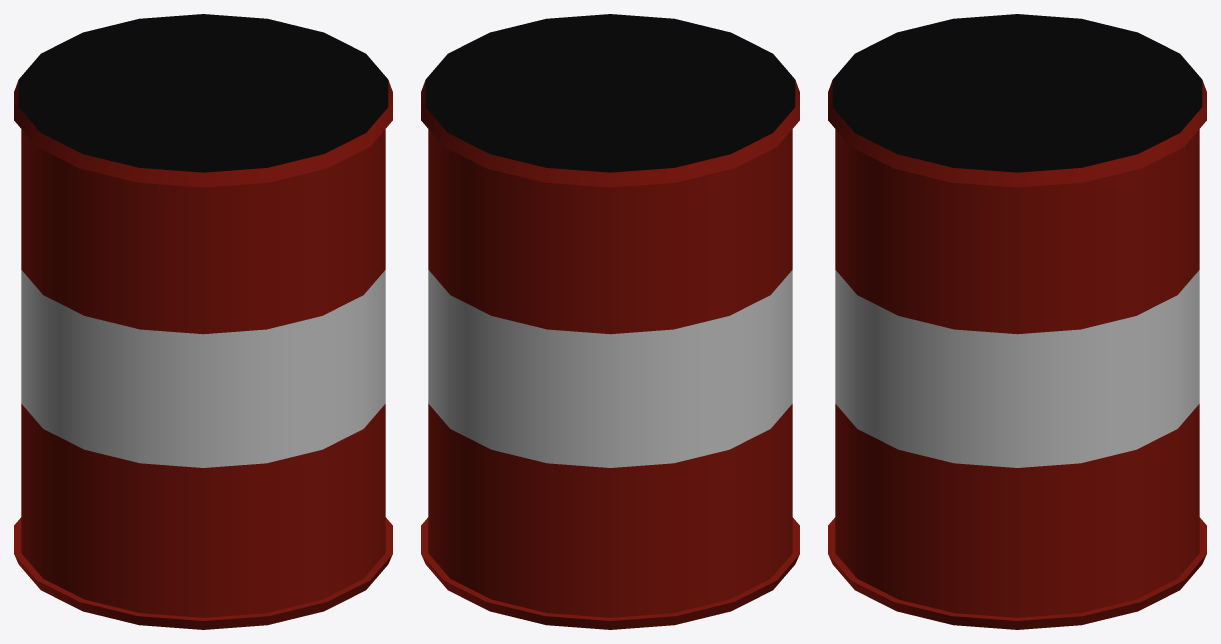
The model's file is Ciclindo Gasolina.fbx.
3 views of the same model, side by side, from view 1: azimuth 30°, elevation 25°; view 2: azimuth 150°, elevation 25°; view 3: azimuth 270°, elevation 25° (orthographic).
Visible parts, largest first — view 1: Cylinder038; view 2: Cylinder038; view 3: Cylinder038.
Boxes of the visible parts, x1,y1,x2,y2 form: Cylinder038: (14, 14, 392, 629); Cylinder038: (421, 14, 799, 629); Cylinder038: (828, 14, 1206, 629).
Bounding box in the file's own units: 90.46 × 119 × 89.09.
